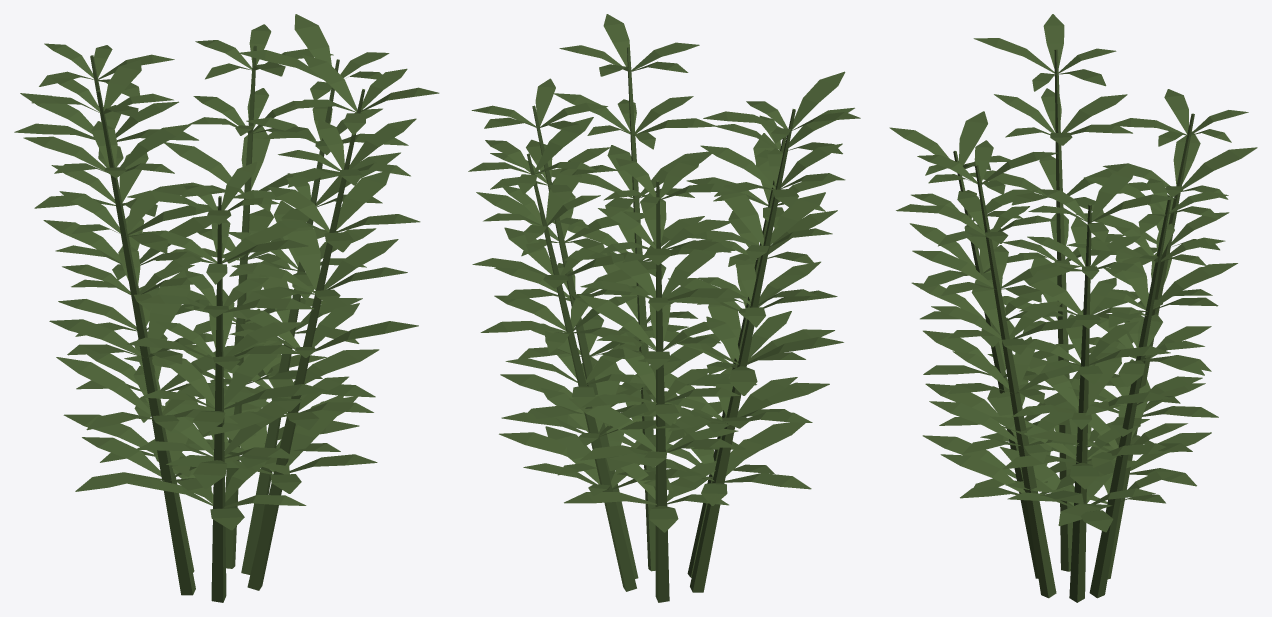
The model's file is plant_012b_coontail.glb.
The picture shows the model from 3 angles, left to right: view 1: azimuth 30°, elevation 25°; view 2: azimuth 150°, elevation 25°; view 3: azimuth 270°, elevation 25°; orthographic projection. The views are drawn at different scales.
Parts seen in each view (by area): view 1: plant_012b_coontail__chunky_whorls, plant_012b_coontail__stems; view 2: plant_012b_coontail__chunky_whorls, plant_012b_coontail__stems; view 3: plant_012b_coontail__chunky_whorls, plant_012b_coontail__stems.
Part boxes in pixels (left/top/right/bottom): plant_012b_coontail__chunky_whorls: left=14, top=14, right=439, bottom=530; plant_012b_coontail__stems: left=90, top=45, right=364, bottom=602; plant_012b_coontail__chunky_whorls: left=468, top=14, right=860, bottom=532; plant_012b_coontail__stems: left=527, top=47, right=795, bottom=602; plant_012b_coontail__chunky_whorls: left=889, top=14, right=1257, bottom=532; plant_012b_coontail__stems: left=953, top=49, right=1194, bottom=602.
Bounding box in the file's own units: 1.19 × 1.58 × 1.08.
